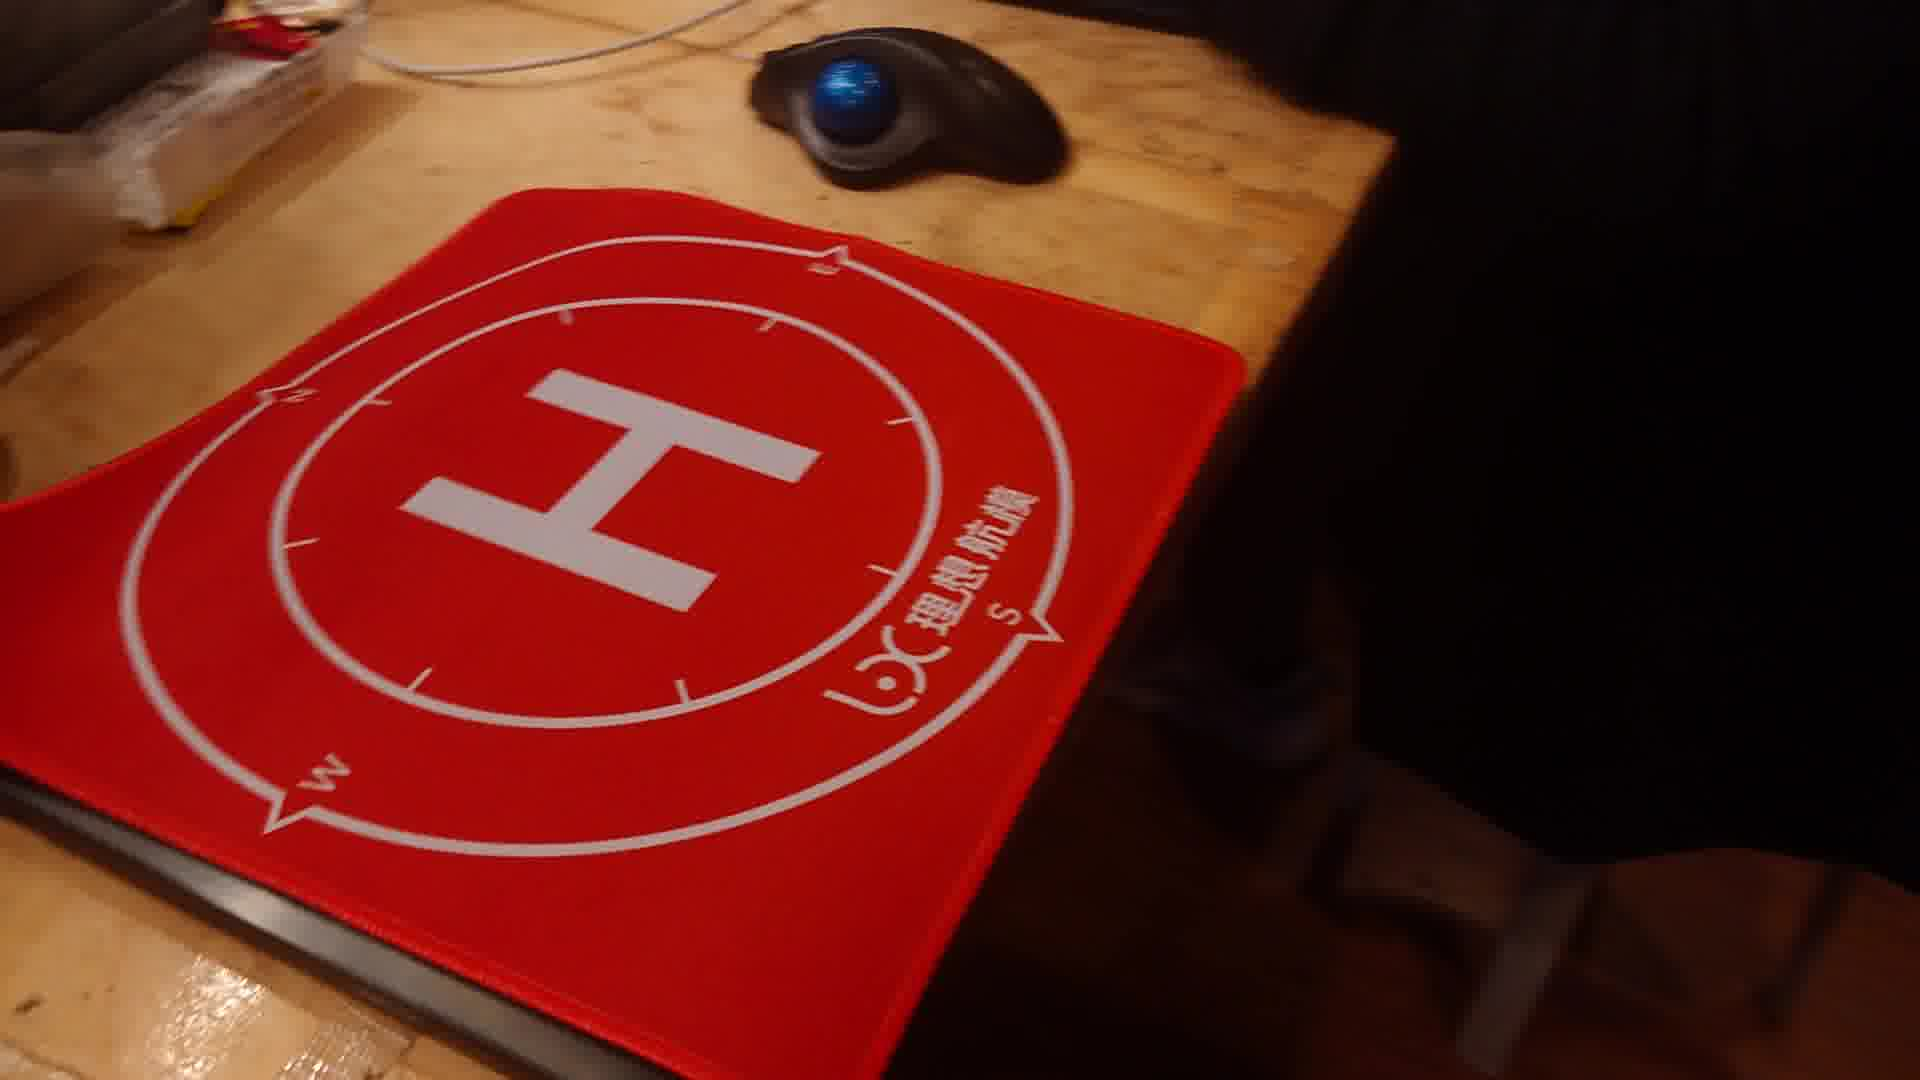H: (397, 364, 825, 615)
